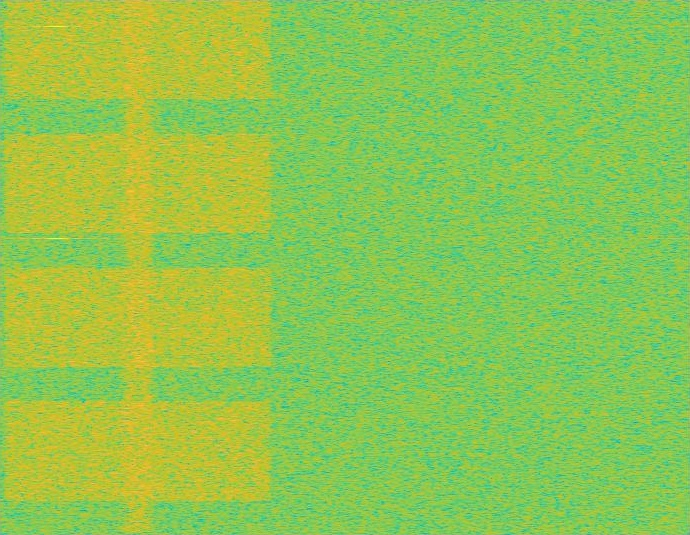5G: (0, 0, 276, 534)
DSSS: (119, 0, 157, 534)
Radar: (50, 0, 64, 534)
